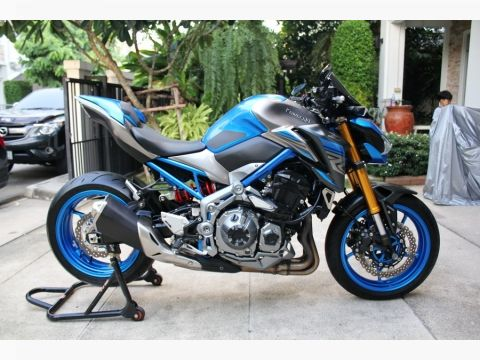motorcycle: (48, 85, 441, 299)
